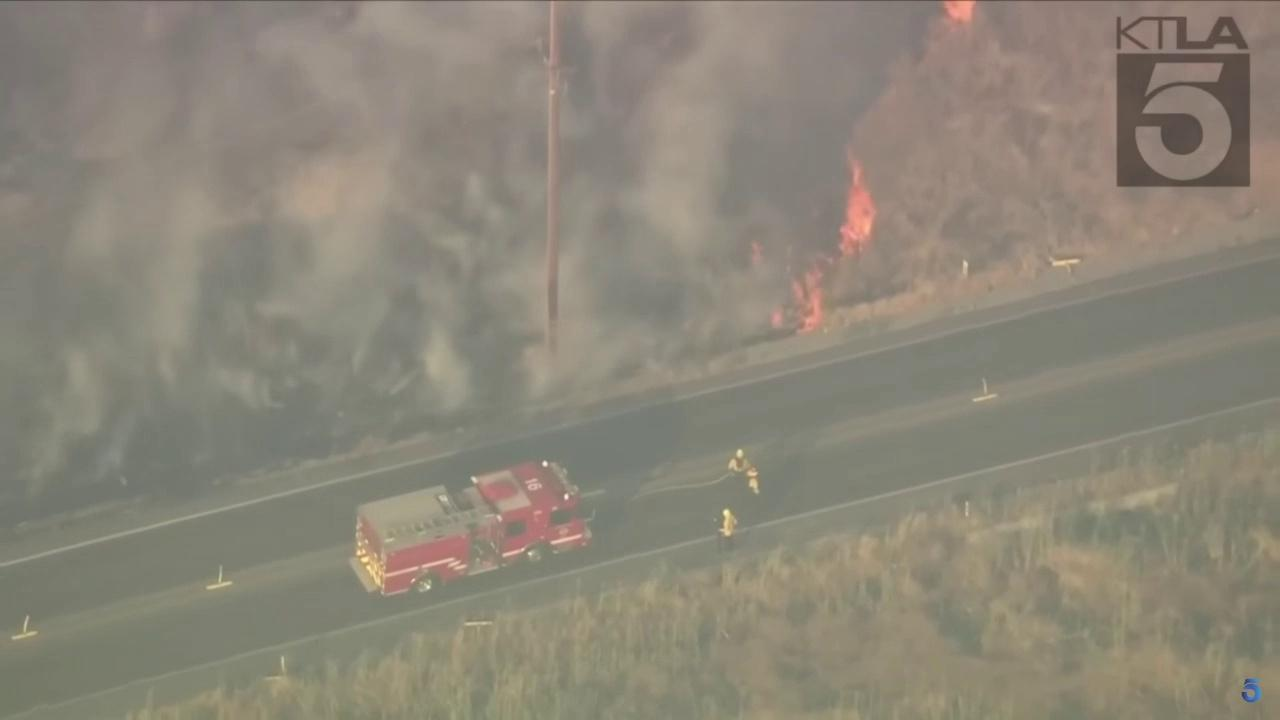fire: (837, 147, 879, 261), (790, 262, 825, 337), (943, 0, 978, 26), (750, 239, 762, 266), (769, 309, 783, 332)
smoke: (0, 0, 944, 502)
